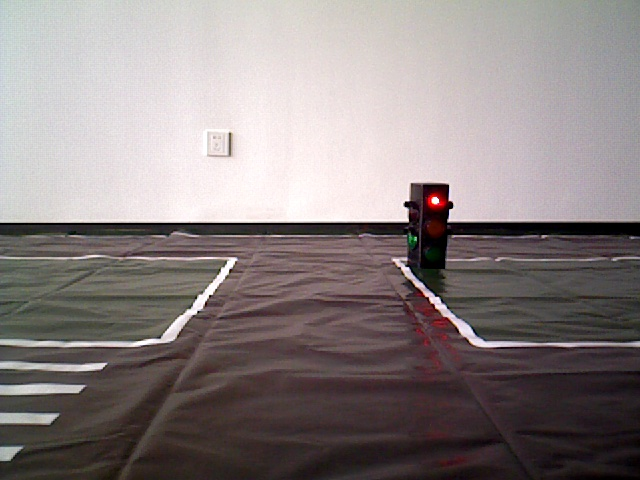red: (406, 182, 445, 277)
